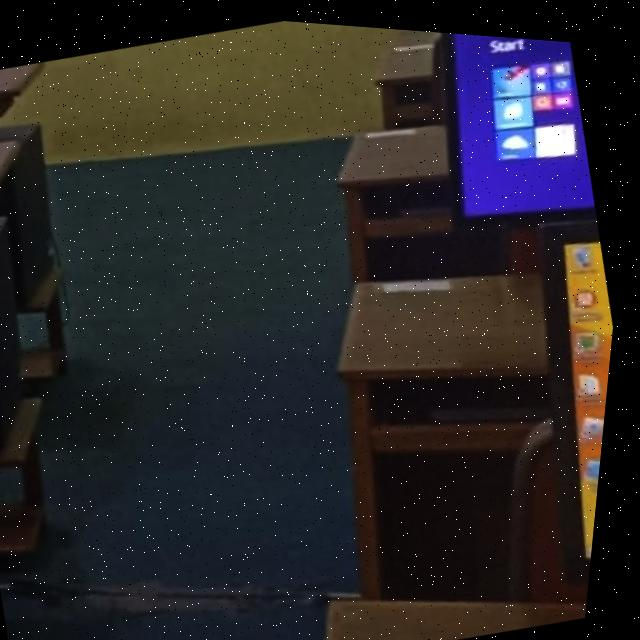onscreen: (443, 26, 596, 210), (543, 214, 618, 568)
